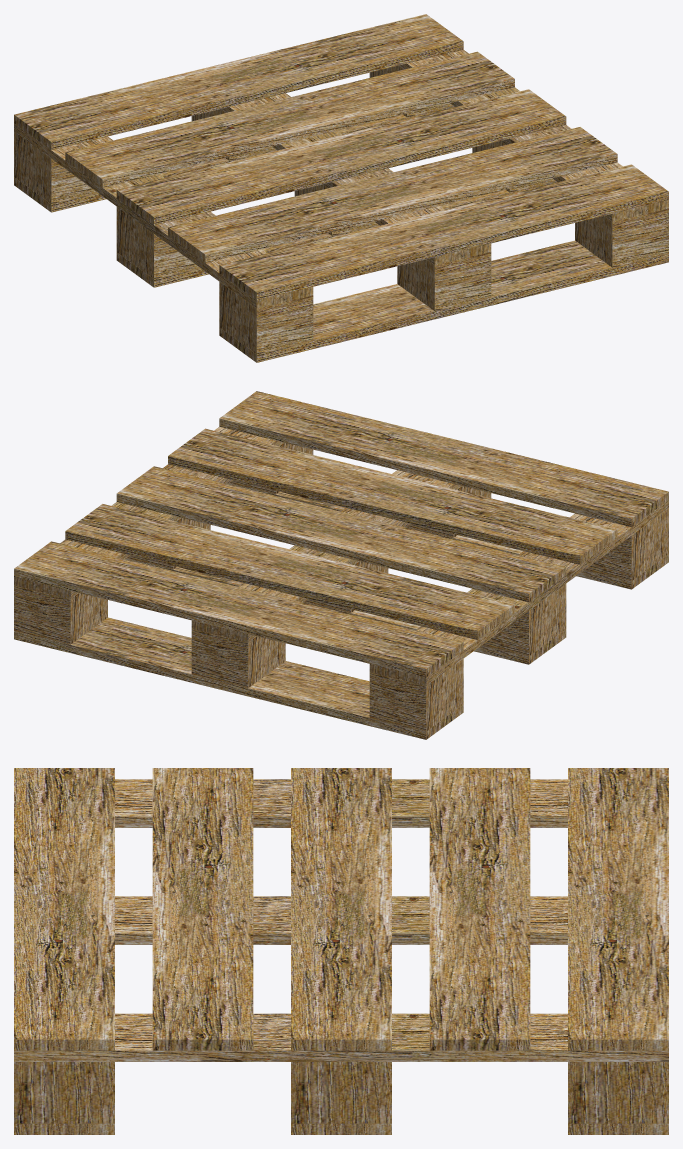
The model's file is Wooden palette model.fbx.
3 views of the same model, one above another, from view 1: azimuth 30°, elevation 25°; view 2: azimuth 150°, elevation 25°; view 3: azimuth 270°, elevation 25° (orthographic). The views are drawn at different scales.
Visible parts, largest first — view 1: Cube; view 2: Cube; view 3: Cube.
Part boxes in pixels (bbox=[...]): Cube: bbox=[14, 14, 668, 362]; Cube: bbox=[14, 391, 668, 739]; Cube: bbox=[14, 768, 668, 1134].
Size of the model in its own units: 464 by 75.92 by 473.
